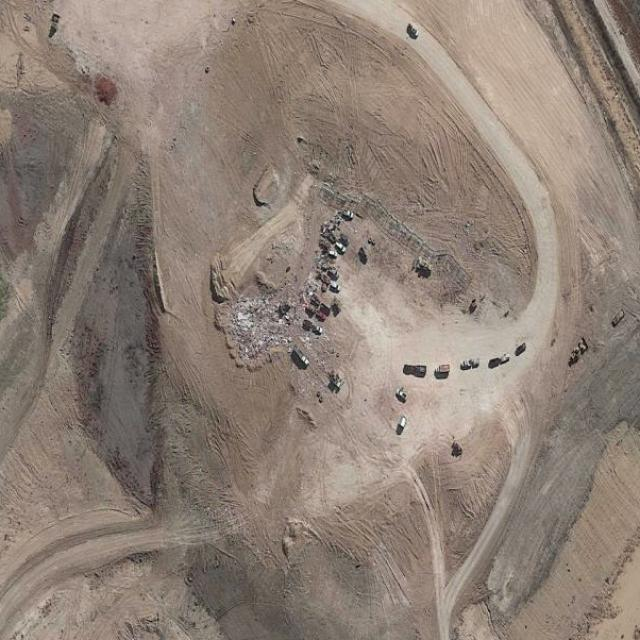dump_site: (225, 273, 301, 372)
